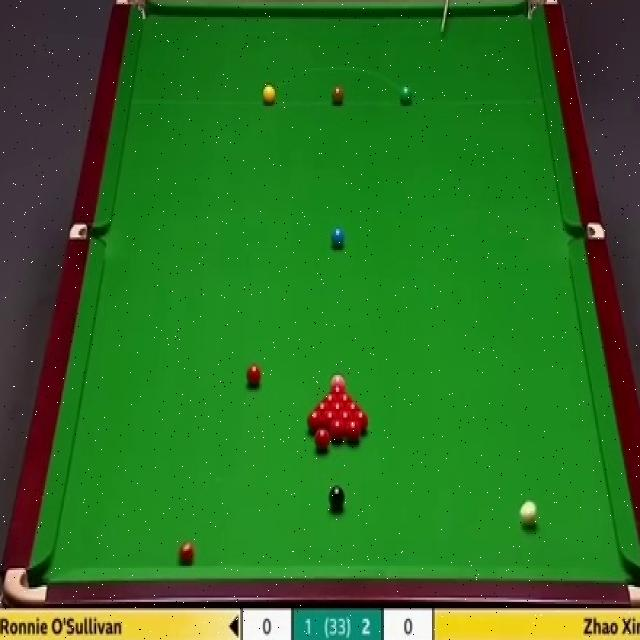black-ball: (328, 486, 346, 511)
blue-ball: (330, 226, 346, 250)
brown-ball: (331, 86, 345, 106)
green-ball: (400, 85, 412, 105)
pink-ball: (331, 372, 346, 387)
red-ball: (178, 540, 194, 568), (345, 420, 361, 445), (246, 363, 261, 389), (329, 420, 345, 443), (307, 412, 324, 433), (315, 428, 329, 452), (354, 411, 369, 433), (324, 412, 337, 429), (314, 401, 332, 412), (345, 402, 362, 412), (321, 393, 339, 402), (338, 394, 353, 404), (330, 386, 346, 395), (338, 411, 352, 421), (332, 402, 346, 412)
white-ball: (519, 501, 536, 525)
yellow-ball: (263, 83, 275, 106)
